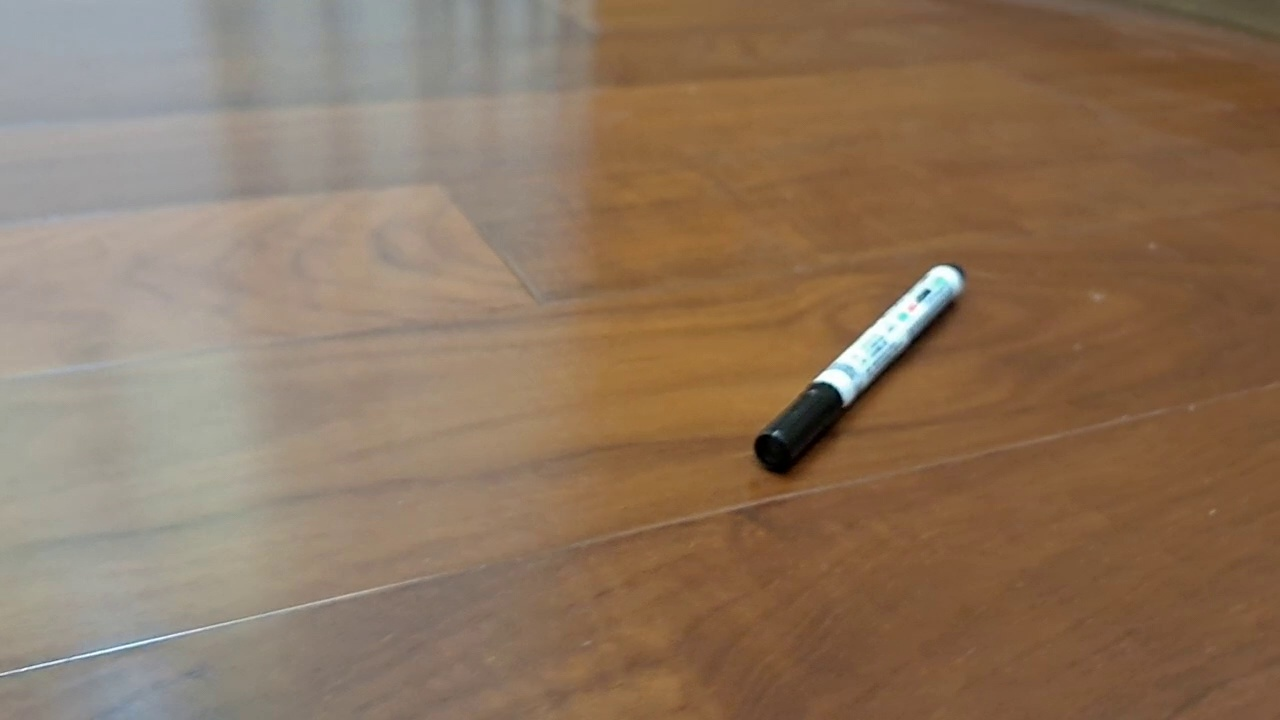pen: (753, 262, 967, 477)
